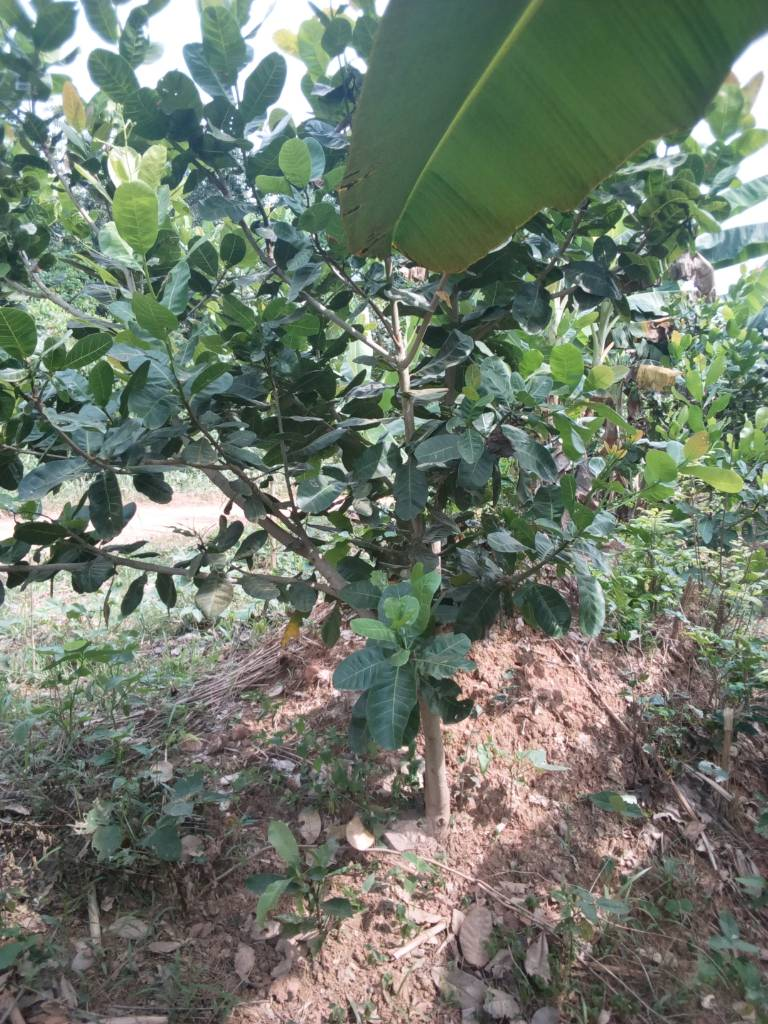Termites: (488, 642, 638, 766)
